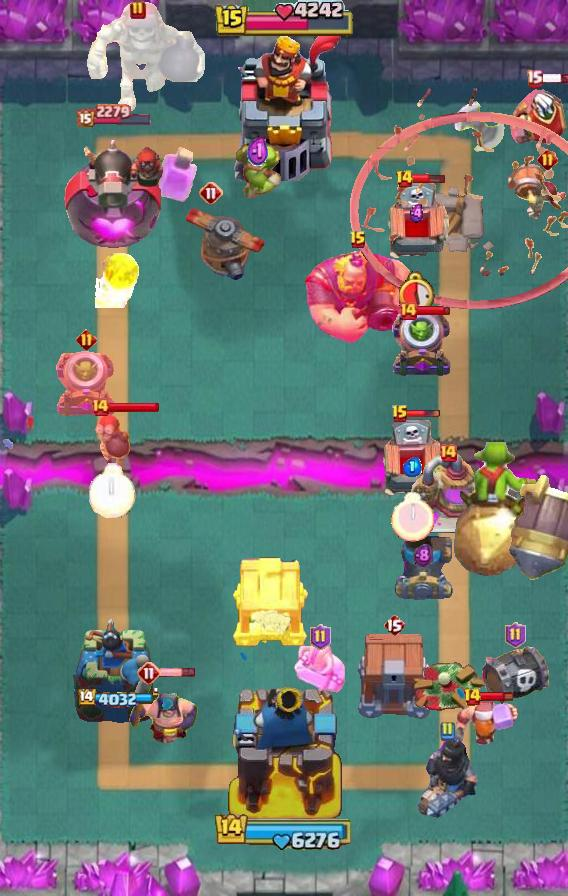bomb: (230, 554, 310, 648), (355, 634, 433, 720)
clock: (213, 0, 355, 40), (214, 811, 354, 851)
dark-prince: (181, 195, 271, 281)
electro-giant: (85, 0, 209, 112)
electro-spirit: (247, 135, 269, 169), (413, 544, 433, 569), (402, 457, 422, 477), (408, 204, 426, 223)
elixir: (89, 462, 135, 518), (390, 492, 433, 542), (399, 271, 436, 314)
elixir-golem-mid: (382, 181, 452, 267), (377, 418, 447, 504)
emote: (108, 401, 160, 413), (478, 690, 513, 703), (159, 666, 196, 678), (410, 173, 446, 185), (415, 305, 451, 317), (407, 409, 441, 419), (540, 73, 568, 84)
flying-machine: (230, 141, 286, 199)
goblin-cage: (389, 309, 453, 379), (54, 349, 118, 419)
goblin-giant: (292, 640, 348, 696)
ice-golem: (93, 412, 131, 468)
inferno-dragon: (415, 737, 479, 820)
king-tower: (223, 31, 345, 181), (223, 680, 345, 826)
knight: (512, 163, 568, 223)
knight-evolution: (153, 145, 197, 202)
lightning: (302, 249, 415, 345)
mighty-miner: (452, 700, 520, 754)
monk: (129, 671, 199, 747)
musketeer: (393, 536, 453, 600)
pekka: (409, 453, 487, 535)
queen-tower: (70, 616, 158, 731)
royal-giant: (448, 101, 506, 163)
royal-recruit-evolution: (478, 644, 552, 708)
selected: (75, 103, 152, 127), (75, 689, 152, 709)
skeleton-barrel: (350, 88, 568, 311)
skeleton-king: (508, 83, 568, 149)
text: (199, 181, 223, 205), (137, 661, 161, 685), (506, 622, 527, 648), (309, 624, 330, 650), (383, 613, 405, 637), (538, 149, 559, 170), (75, 329, 96, 350), (398, 301, 418, 321), (90, 397, 110, 417), (438, 443, 458, 463), (462, 687, 482, 707), (395, 169, 414, 189), (349, 230, 367, 250), (391, 404, 409, 424), (525, 69, 543, 88), (130, 0, 146, 20), (439, 721, 455, 741)
tower-bar: (60, 132, 167, 256)
valkyrie: (95, 252, 143, 308)
x-bow: (451, 442, 541, 580), (509, 473, 567, 580)
